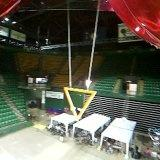Yellow_Triangle_Gshape: (64, 87, 97, 122)
